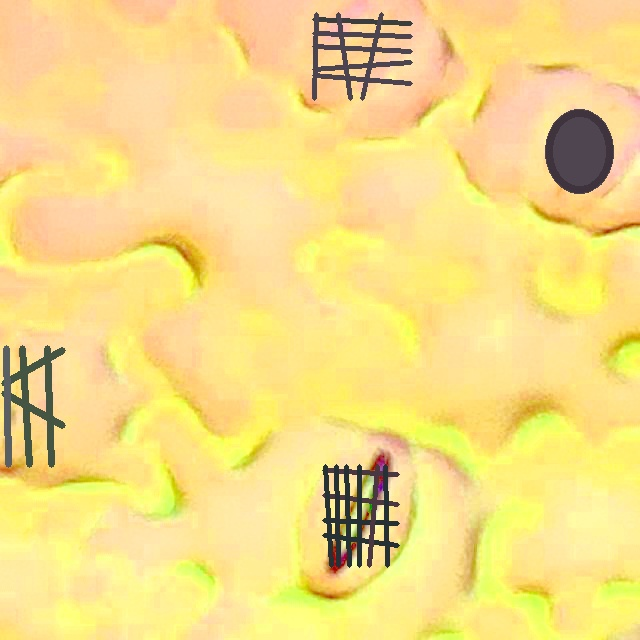close: (313, 13, 411, 99), (1, 345, 65, 467), (544, 110, 614, 192)
open: (322, 464, 399, 567)
